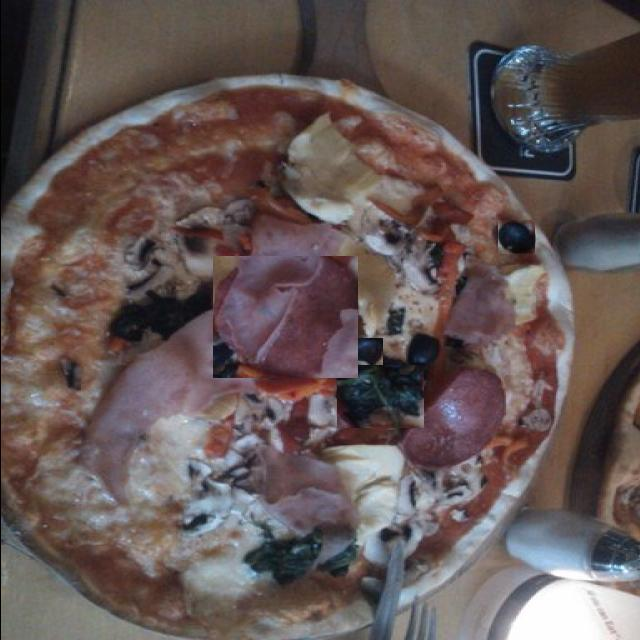basil: (336, 365, 423, 428), (242, 526, 320, 588)
olive: (338, 338, 382, 368), (497, 220, 534, 254), (404, 334, 439, 368)
pepperoni: (212, 256, 357, 378), (403, 369, 504, 470)
pizza: (2, 75, 578, 640)
